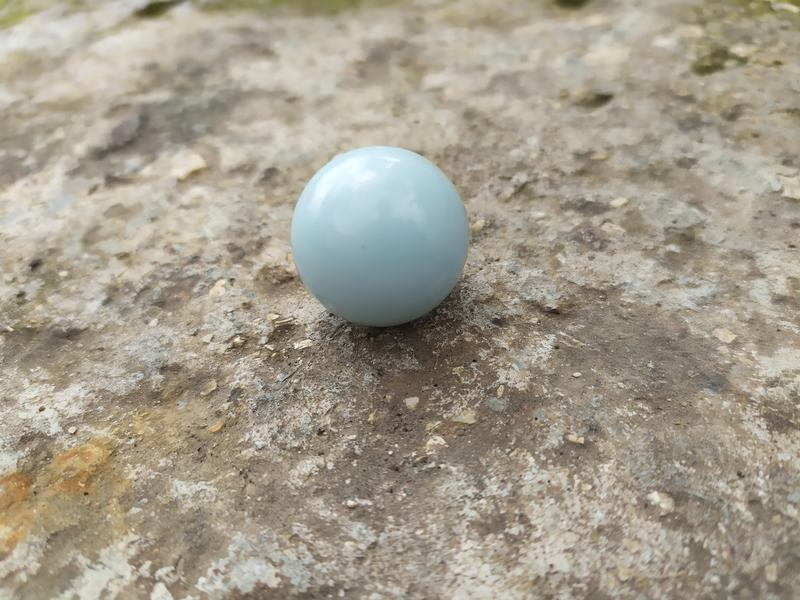Warning: (287, 140, 477, 331)
